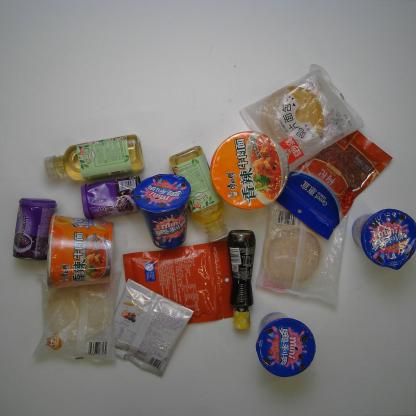Canned Food: (80, 174, 143, 221), (12, 198, 58, 262)
Dessert: (238, 61, 366, 180), (257, 189, 351, 306), (31, 272, 118, 365), (132, 172, 191, 250), (351, 208, 416, 270), (255, 312, 316, 378)
Dried Fruit: (270, 115, 394, 240), (120, 239, 237, 331)
Drink: (166, 144, 230, 242), (42, 132, 146, 184)
Instant Drink: (97, 278, 193, 378)
Instant Noodles: (209, 130, 290, 212), (47, 213, 114, 290)
Seasoner: (226, 228, 256, 331)
